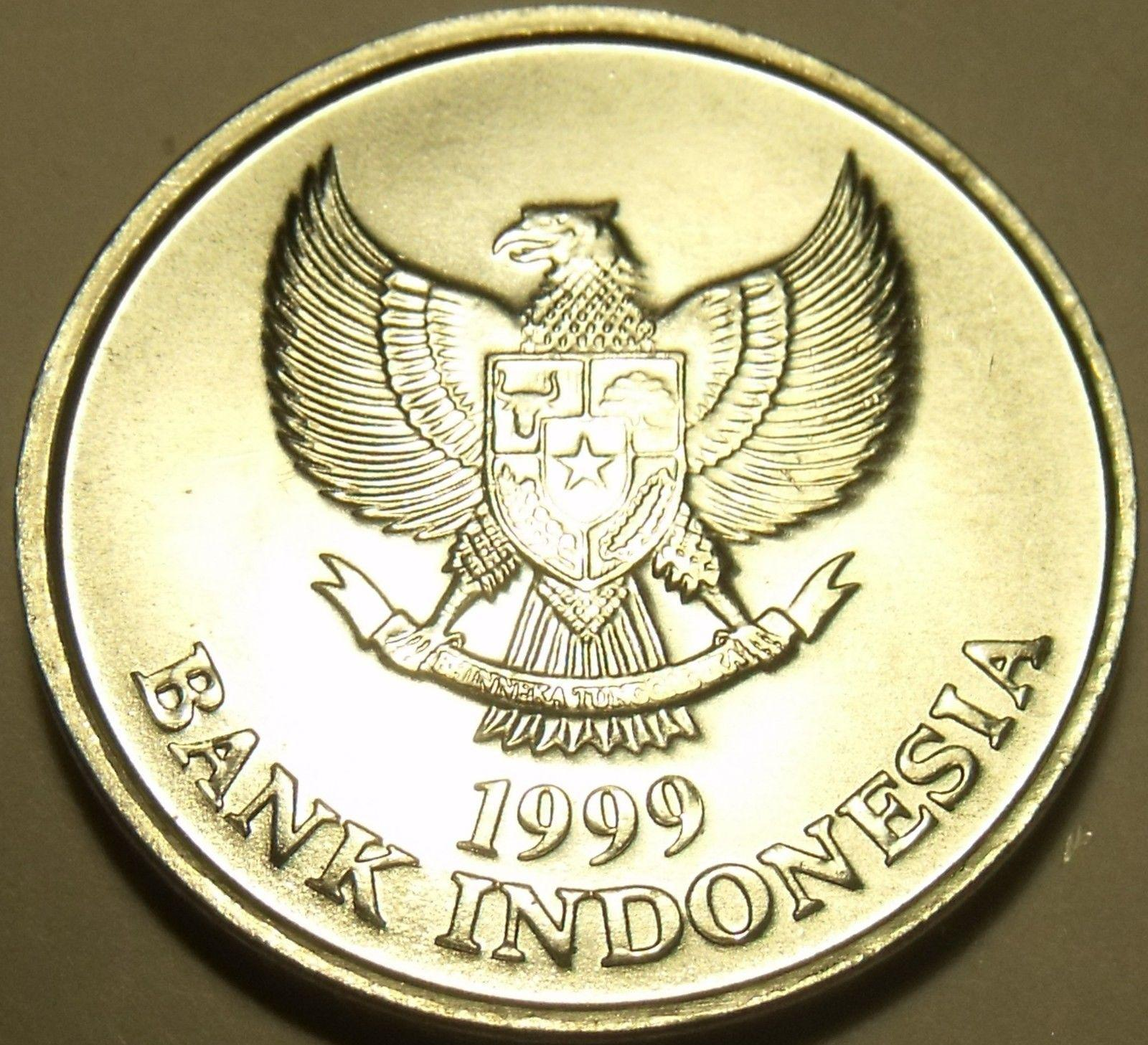coin_100_e1999: (5, 0, 1148, 1045)
